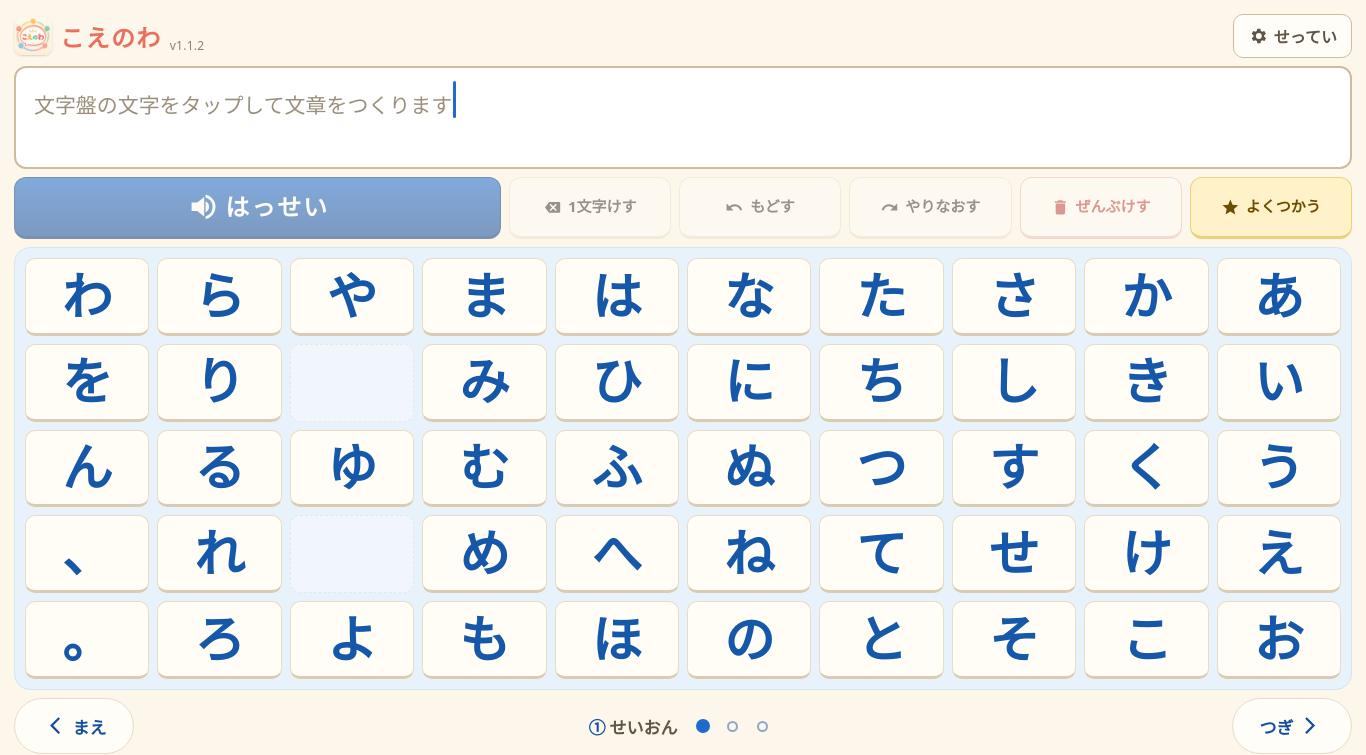
it: 男性・女性の声の選択 › 前に選んだ声が見つからないときは、その旨を表示して別の端末内の声を使う
Click the button "せってい" at (1292, 36), box [1233, 14, 1352, 58]
(page scrolled)
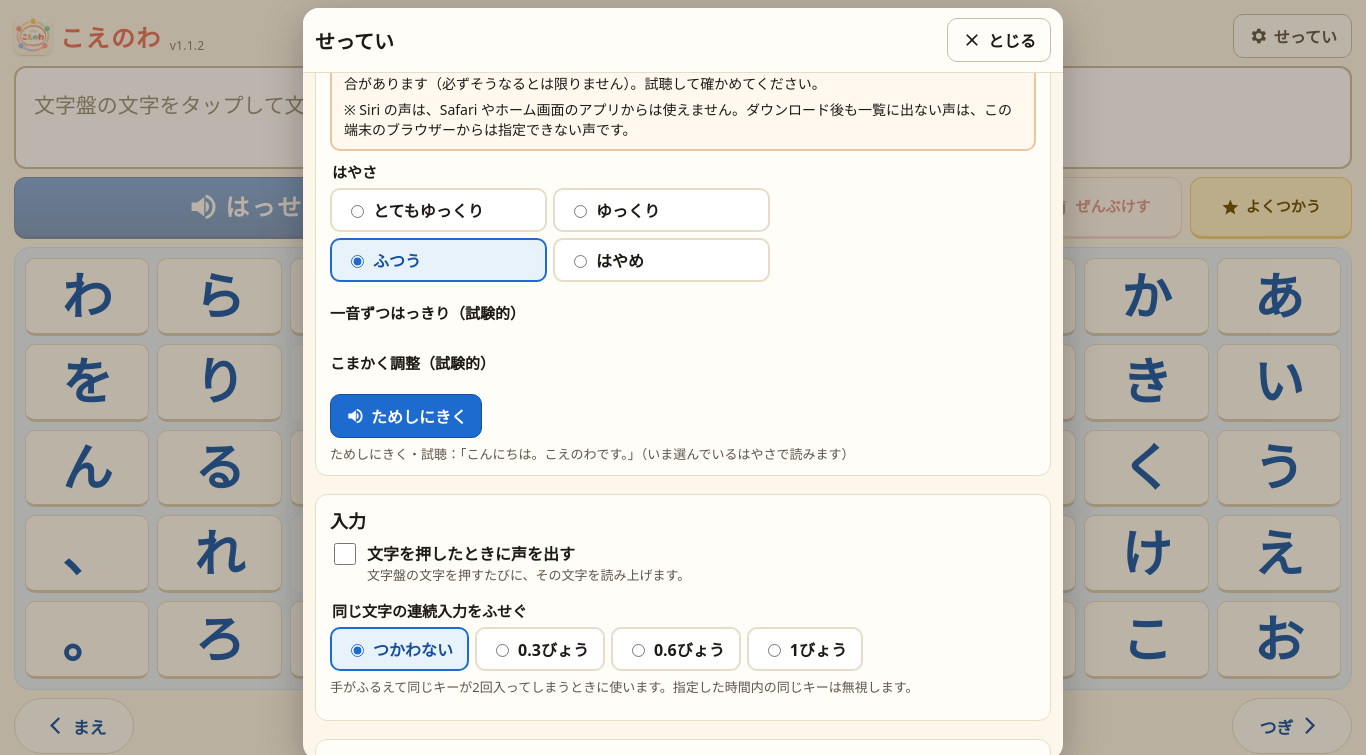
Click the button "ためしにきく" at (406, 416), box [330, 394, 482, 438]
(page scrolled)
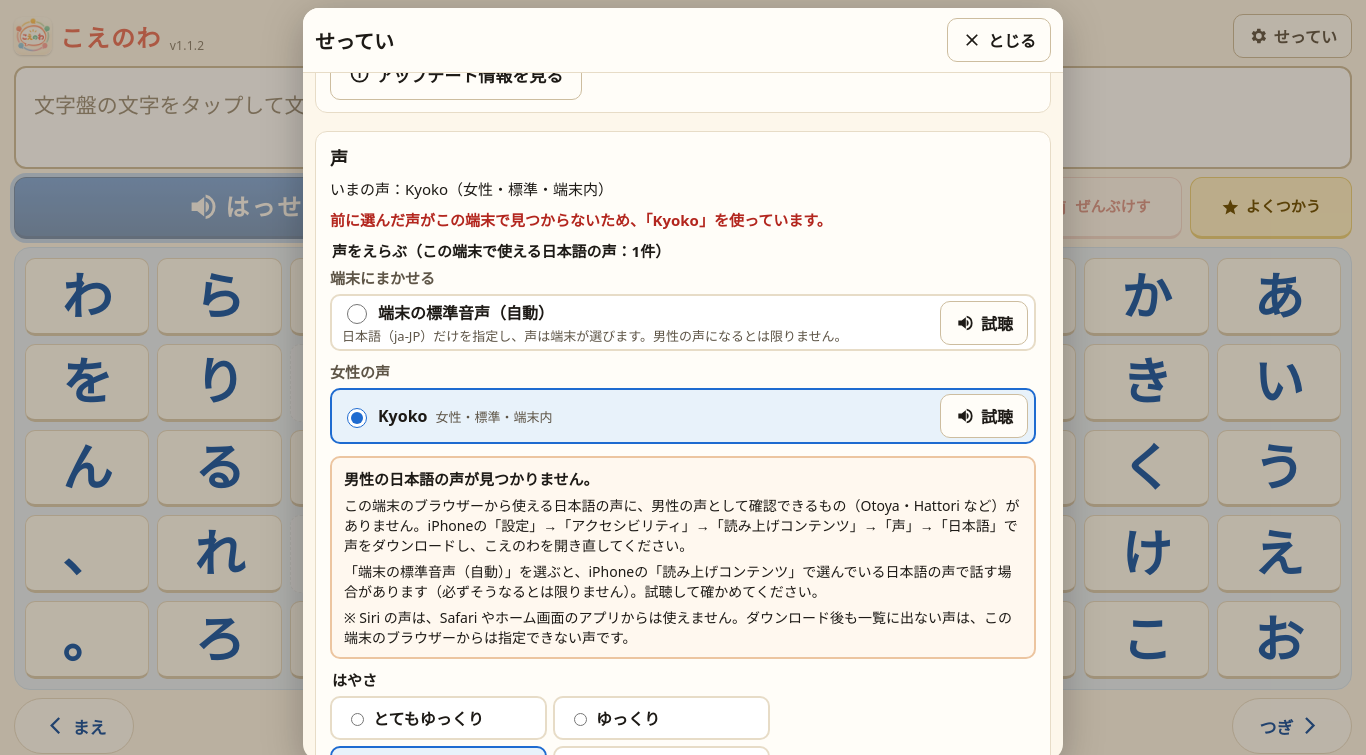
Expected: the text "Kyoko" is shown, [378, 405, 428, 427]
